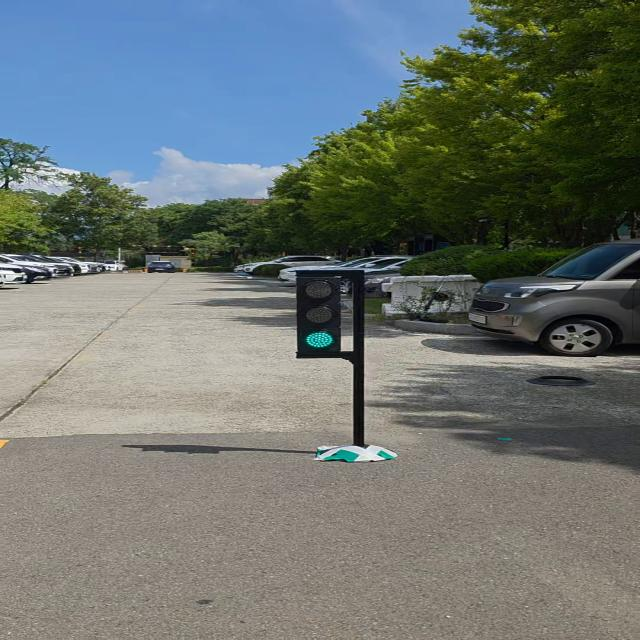green: (295, 271, 341, 357)
